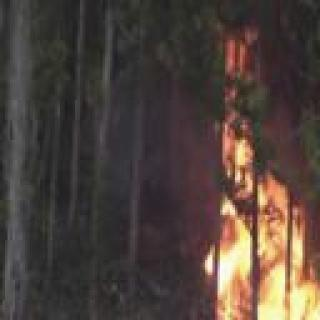fire: (135, 107, 320, 320)
